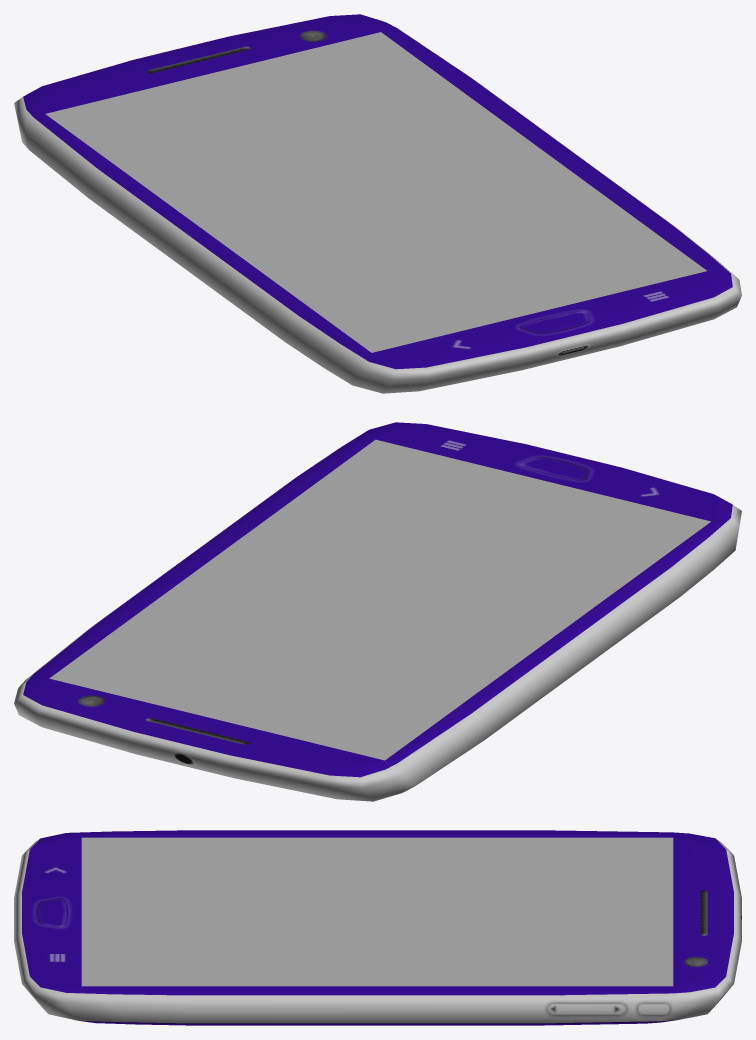
File: mobile_phone1.fbx
3 views of the same model, one above another, from view 1: azimuth 30°, elevation 25°; view 2: azimuth 150°, elevation 25°; view 3: azimuth 270°, elevation 25° (orthographic). The views are drawn at different scales.
Visible parts, largest first — view 1: mobile_phone1_mesh; view 2: mobile_phone1_mesh; view 3: mobile_phone1_mesh.
Boxes of the visible parts, x1,y1,x2,y2 form: mobile_phone1_mesh: (14, 14, 741, 393); mobile_phone1_mesh: (14, 422, 741, 801); mobile_phone1_mesh: (14, 830, 741, 1025).
Size of the model in its own units: 0.0929 by 0.00829 by 0.1634.
